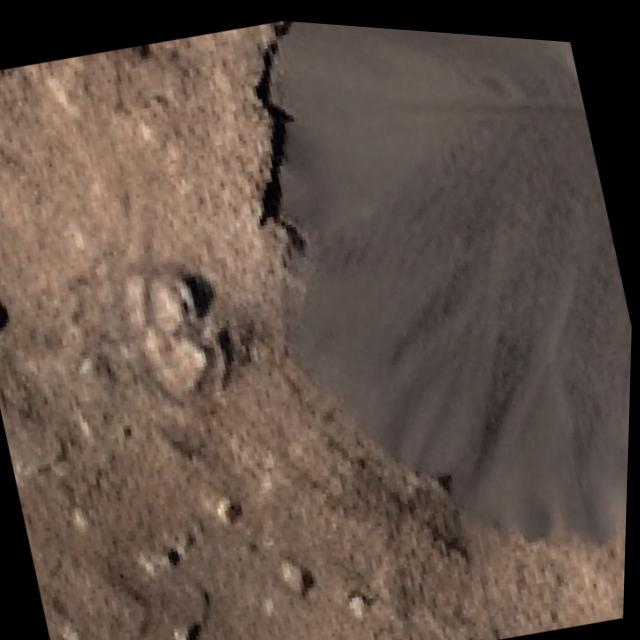Crater: (179, 11, 640, 629)
